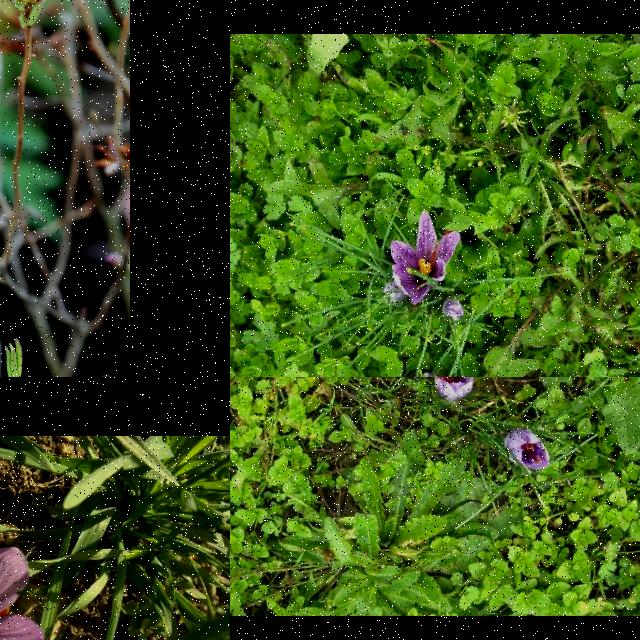flower: (391, 210, 463, 306), (503, 430, 553, 470), (434, 377, 475, 401)
